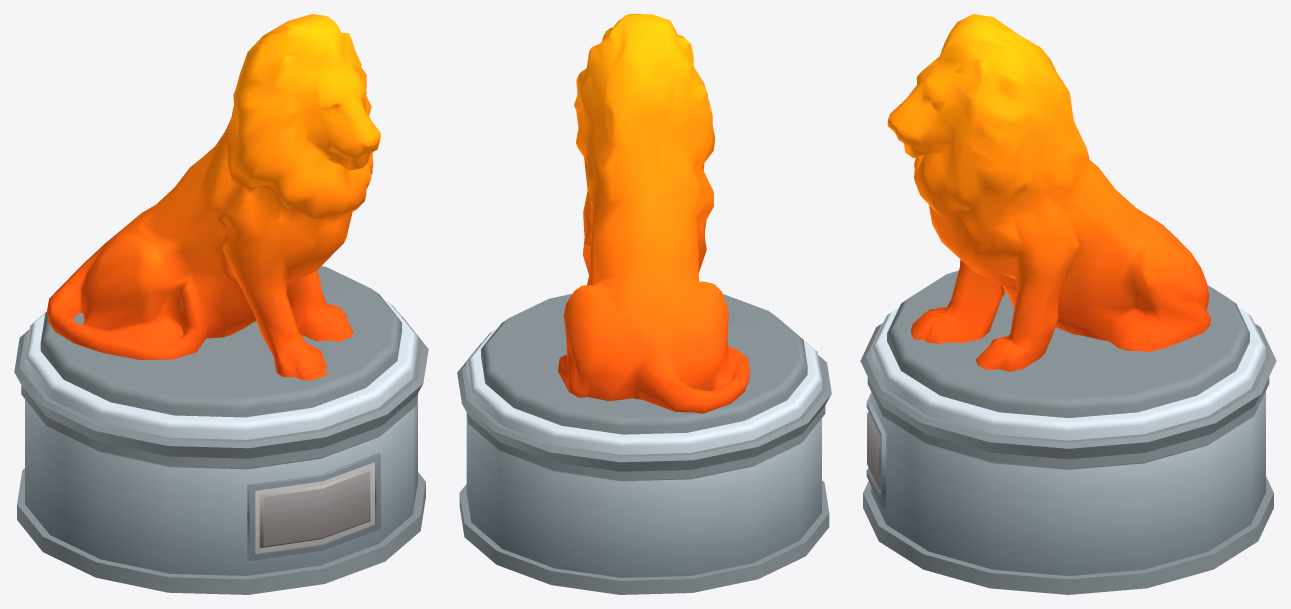
File: city2-statue-01.glb
3 views of the same model, side by side, from view 1: azimuth 30°, elevation 25°; view 2: azimuth 150°, elevation 25°; view 3: azimuth 270°, elevation 25° (orthographic). The views are drawn at different scales.
Parts seen in each view (by area): view 1: Statue_01; view 2: Statue_01; view 3: Statue_01.
Part boxes in pixels (bbox=[...]): Statue_01: bbox=[14, 14, 428, 594]; Statue_01: bbox=[457, 14, 831, 594]; Statue_01: bbox=[860, 14, 1276, 594].
Bounding box in the file's own units: 6.46 × 8.68 × 6.46.
1 material, 1 textured.
